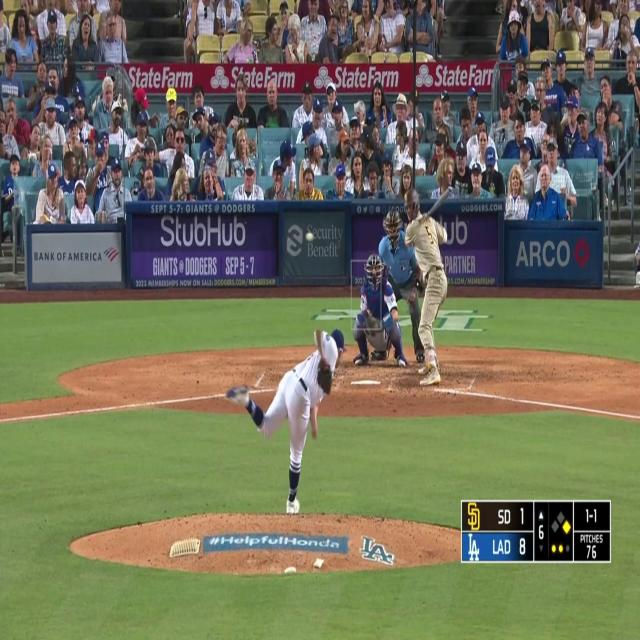baseball: (306, 232, 313, 242)
